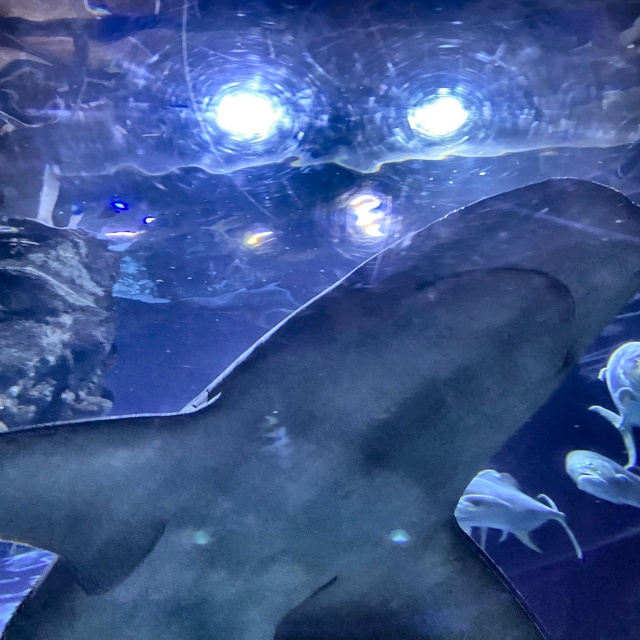fish: (445, 468, 583, 560), (591, 341, 639, 472), (567, 450, 639, 508)
shark: (0, 175, 639, 639)
